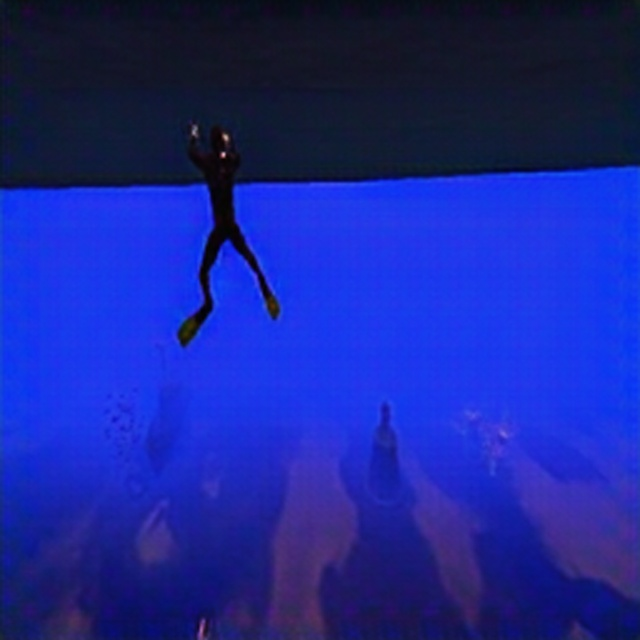diver: (185, 121, 279, 324)
